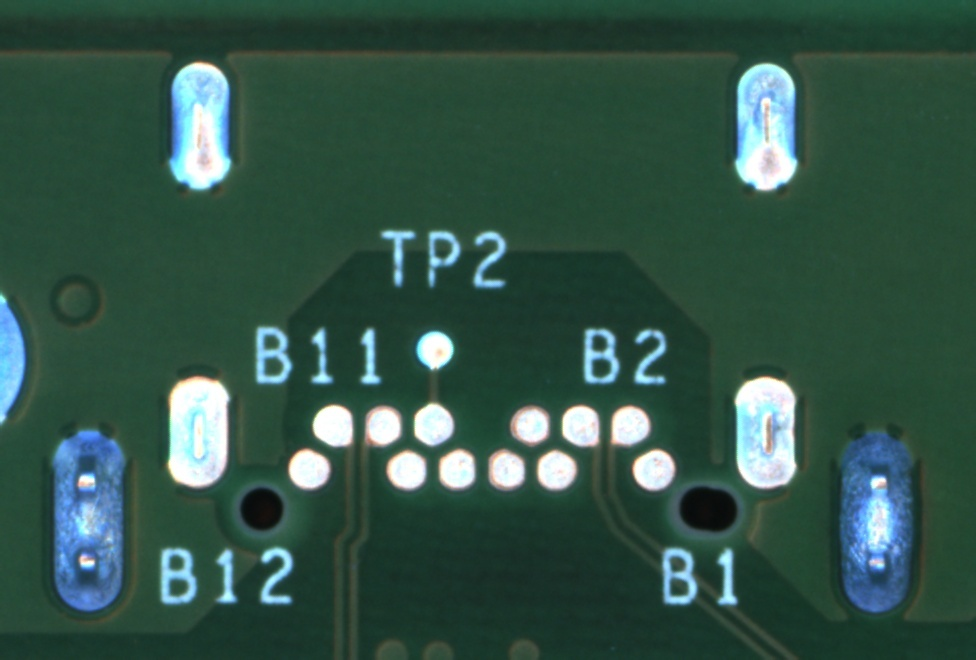SOLDER: (629, 445, 678, 495), (308, 400, 356, 450), (358, 400, 406, 450), (409, 399, 457, 449), (508, 399, 556, 449), (556, 400, 604, 450), (606, 400, 654, 450), (532, 446, 580, 496), (482, 444, 530, 494), (432, 444, 480, 494), (383, 446, 431, 496), (284, 444, 332, 494)
SOLDER2: (37, 422, 139, 620), (826, 423, 928, 621), (718, 47, 811, 210), (719, 351, 812, 514), (149, 347, 242, 510), (157, 45, 249, 209)
